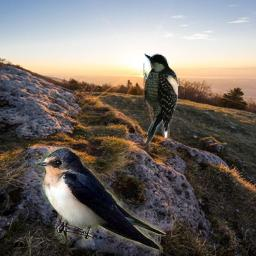Swallow: (35, 145, 166, 254)
Woodpecker: (143, 53, 179, 145)
